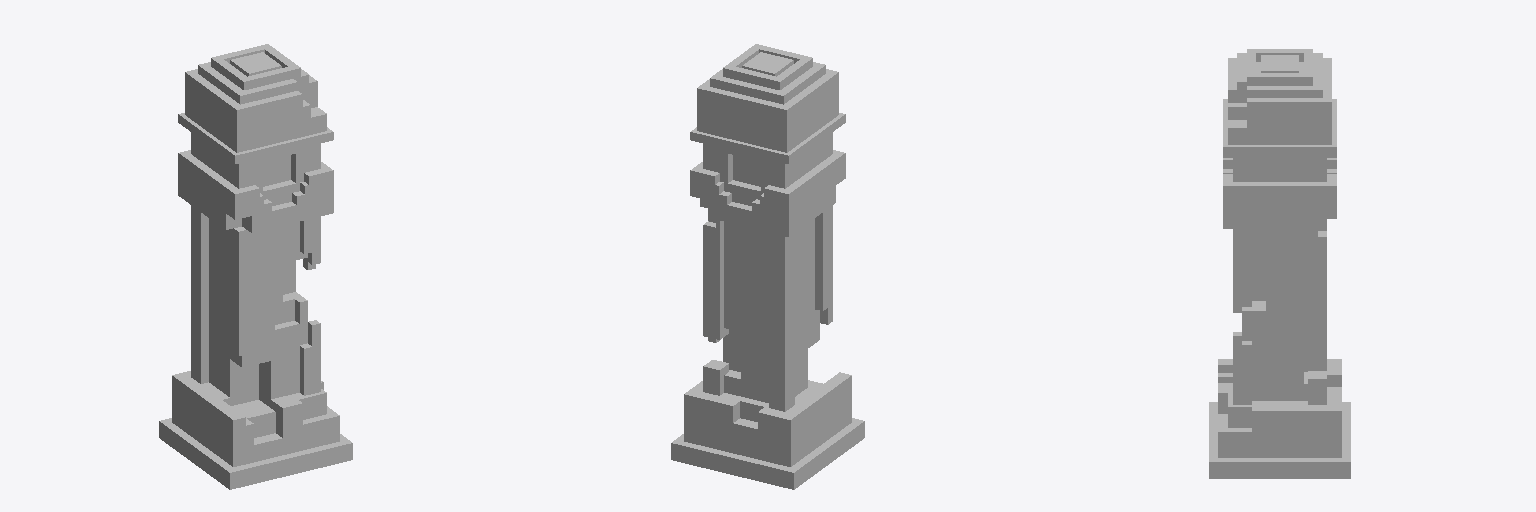
Rendered from Stone pillar.obj.
The picture shows the model from 3 angles: view 1: azimuth 30°, elevation 25°; view 2: azimuth 150°, elevation 25°; view 3: azimuth 270°, elevation 25°; orthographic projection.
Parts seen in each view (by area): view 1: object 1; view 2: object 1; view 3: object 1.
Boxes of the visible parts, <box> form: object 1: <box>159,44,352,489</box>; object 1: <box>671,44,864,489</box>; object 1: <box>1209,49,1350,478</box>.
Size of the model in its own units: 3 by 9 by 3.